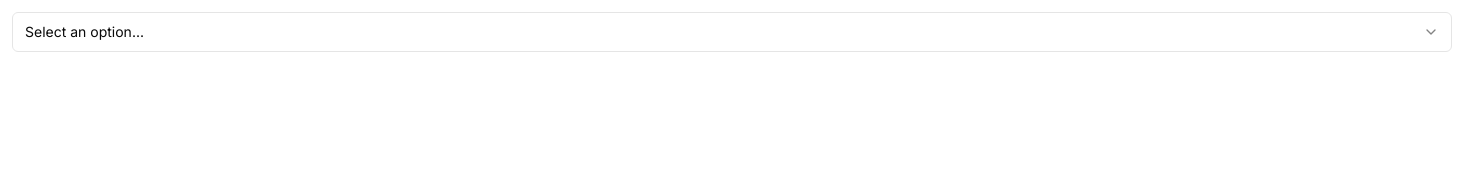
BaseSelect › Rendering › renders with icon in options
This screenshot has width=1464, height=172.
Click the dropdown at (84, 32), box x1=12 y1=12 x2=1452 y2=52
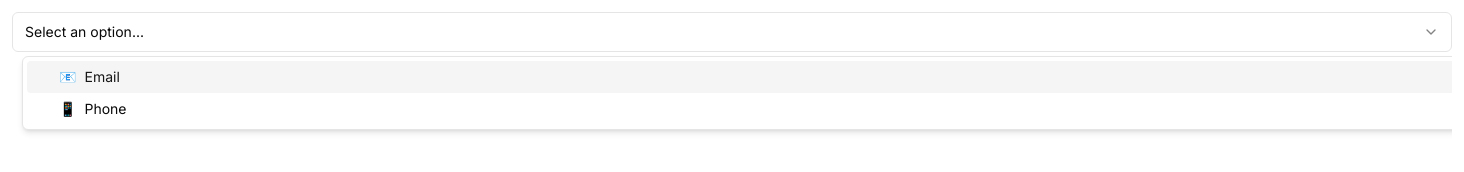
Now the text "📧" is shown, box x1=59 y1=68 x2=76 y2=85
Now the text "📱" is shown, box x1=59 y1=100 x2=76 y2=117
